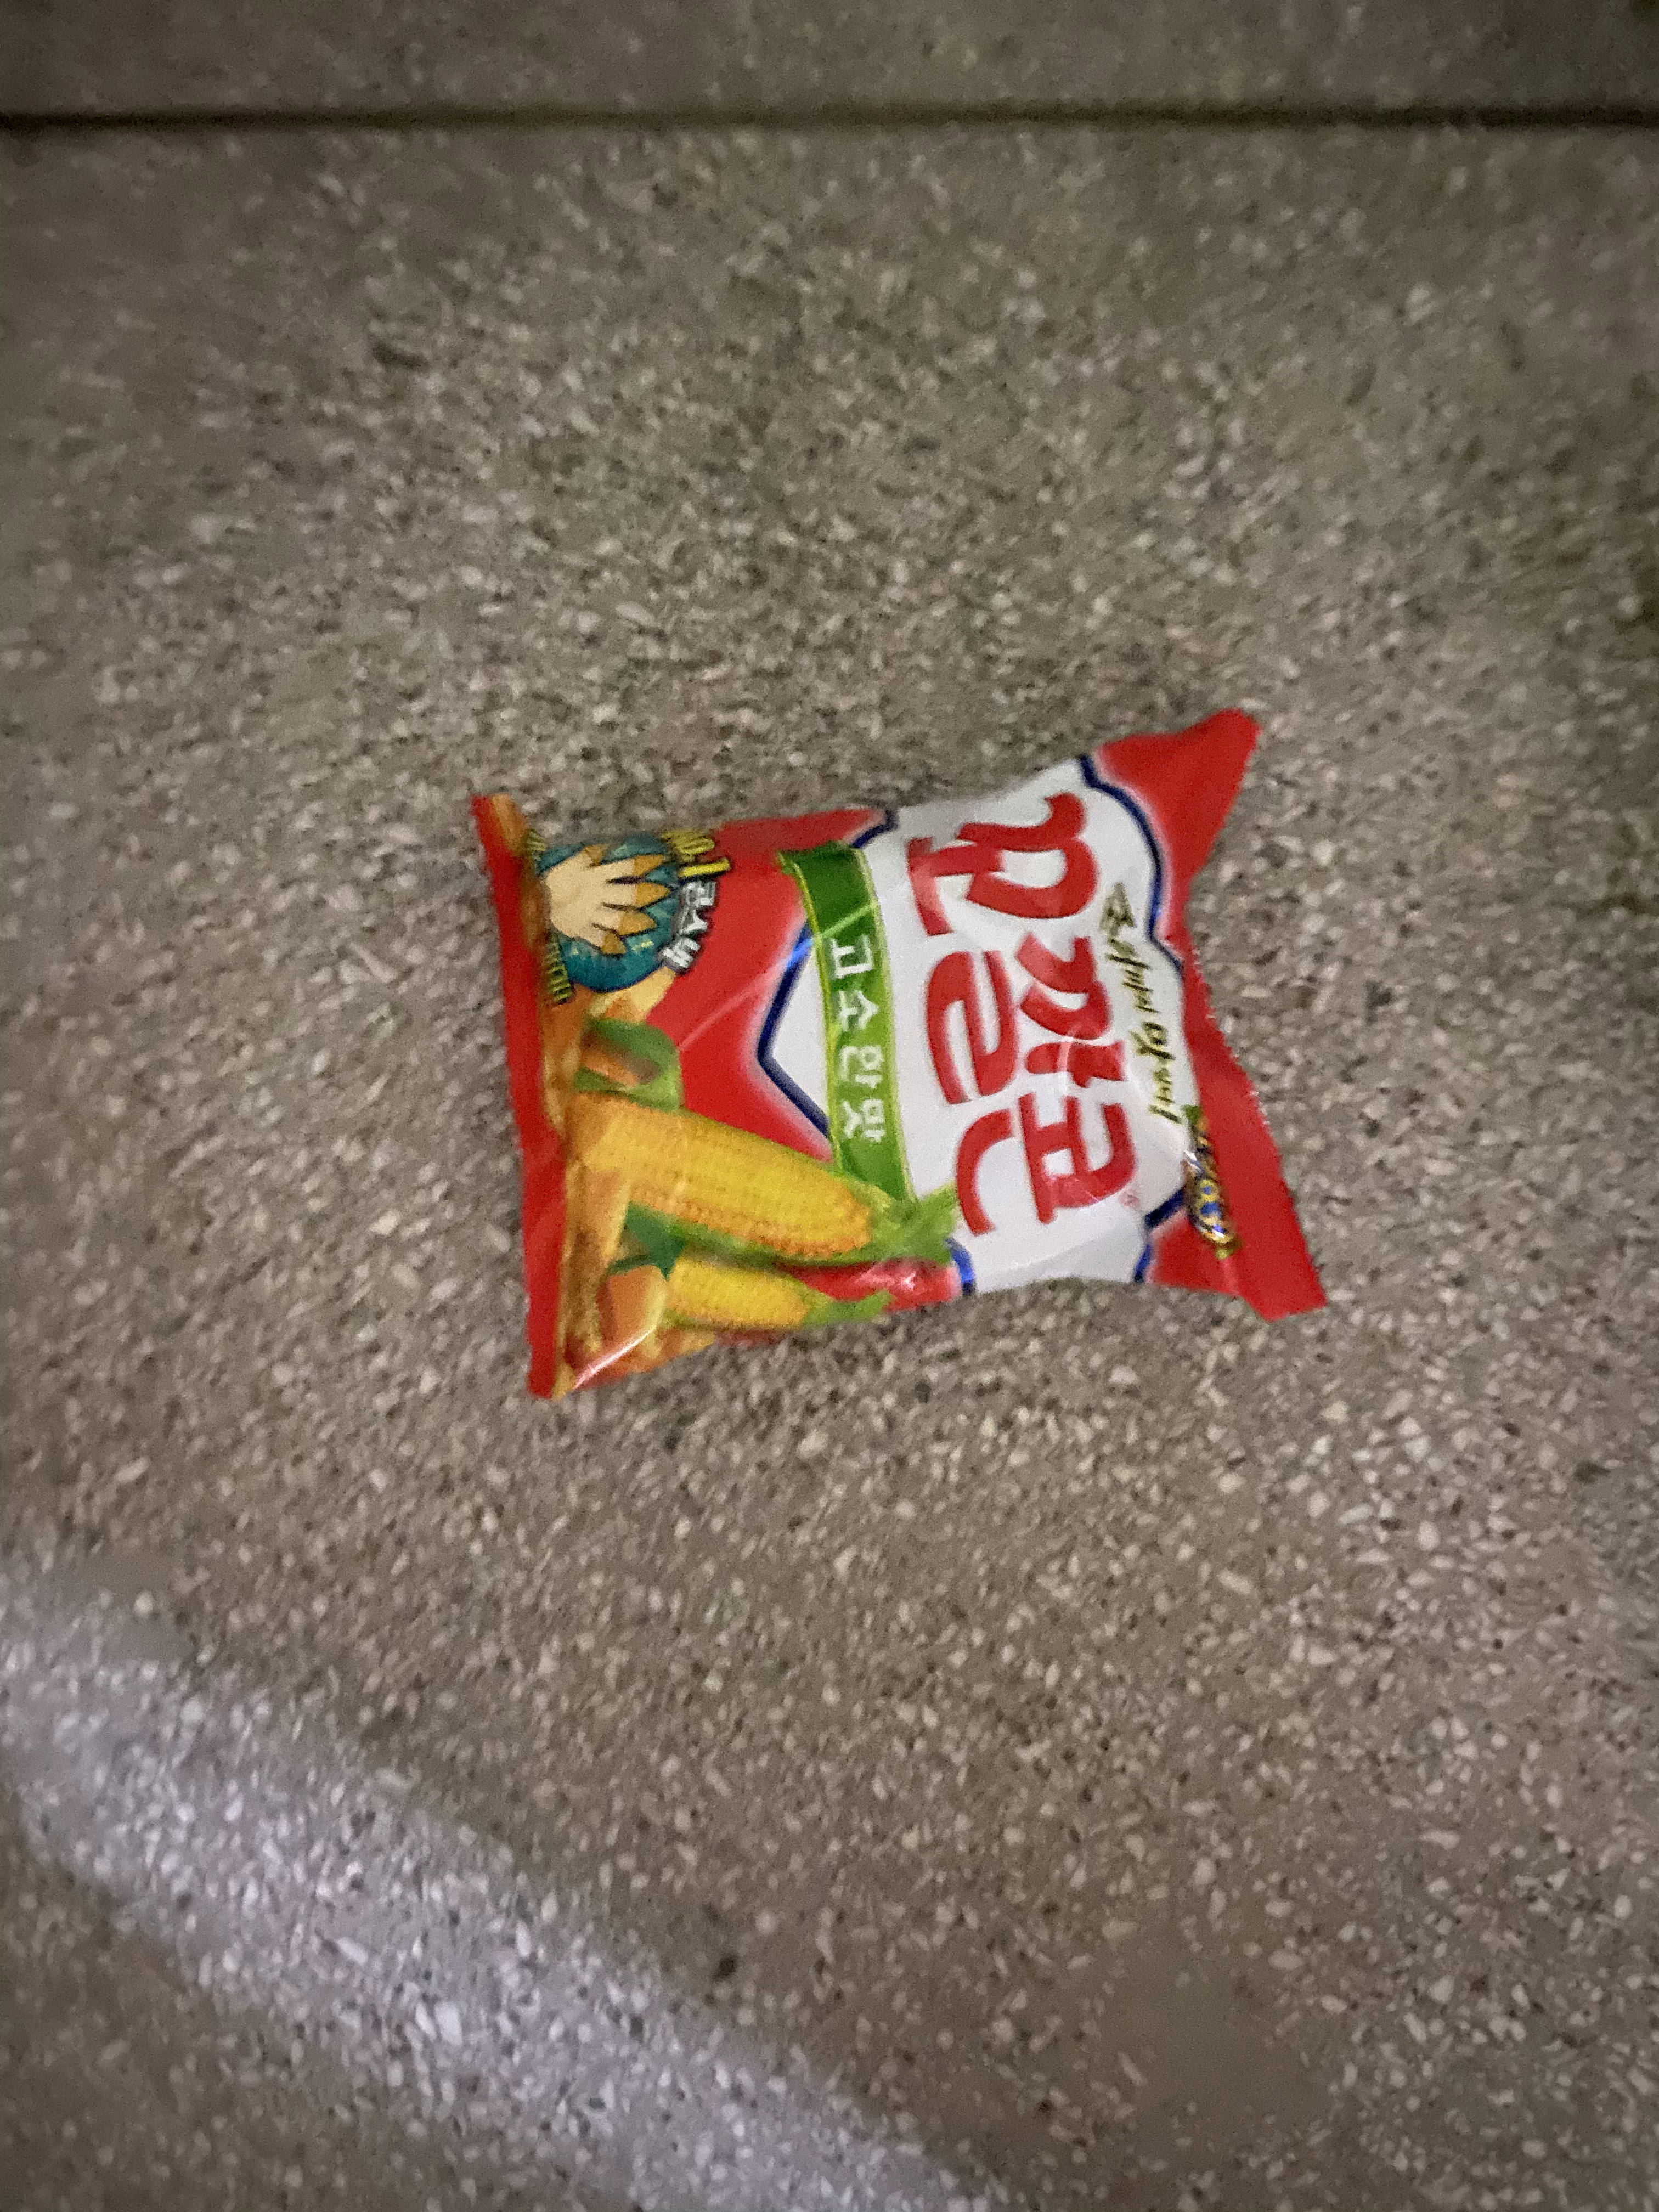ggoggalcon: (451, 688, 1347, 1421)
